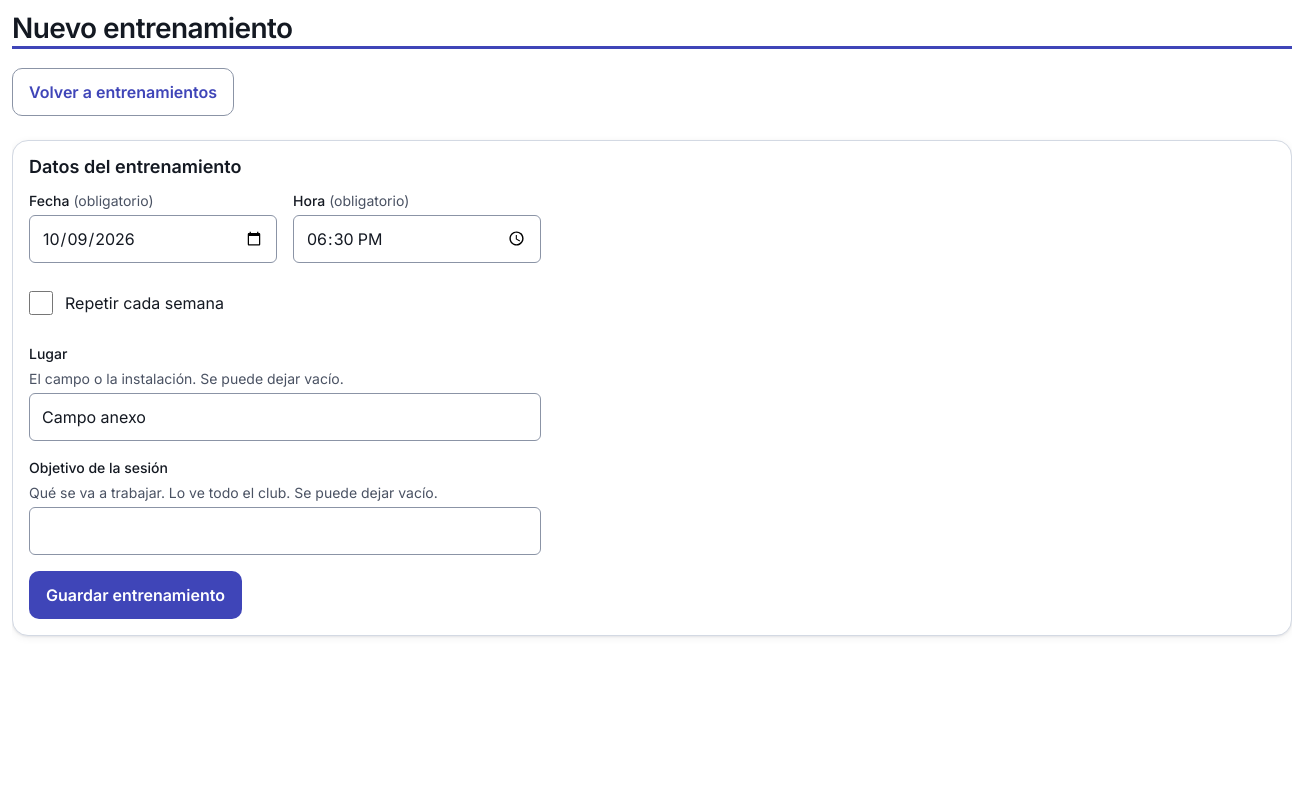
Test: A15b · Nuevo entrenamiento › propone la hora y el lugar del más reciente, guarda y vuelve a la lista
Expected: the time field labelled "Hora (obligatorio)" holds "18:30", top-left (293, 215), bottom-right (541, 263)
Expected: the field labelled "Lugar" holds "Campo anexo", top-left (29, 393), bottom-right (541, 441)
Type "2099-11-08" into the date field labelled "Fecha (obligatorio)".
click(153, 239); type("2099-11-08")  # box top-left (29, 215), bottom-right (277, 263)
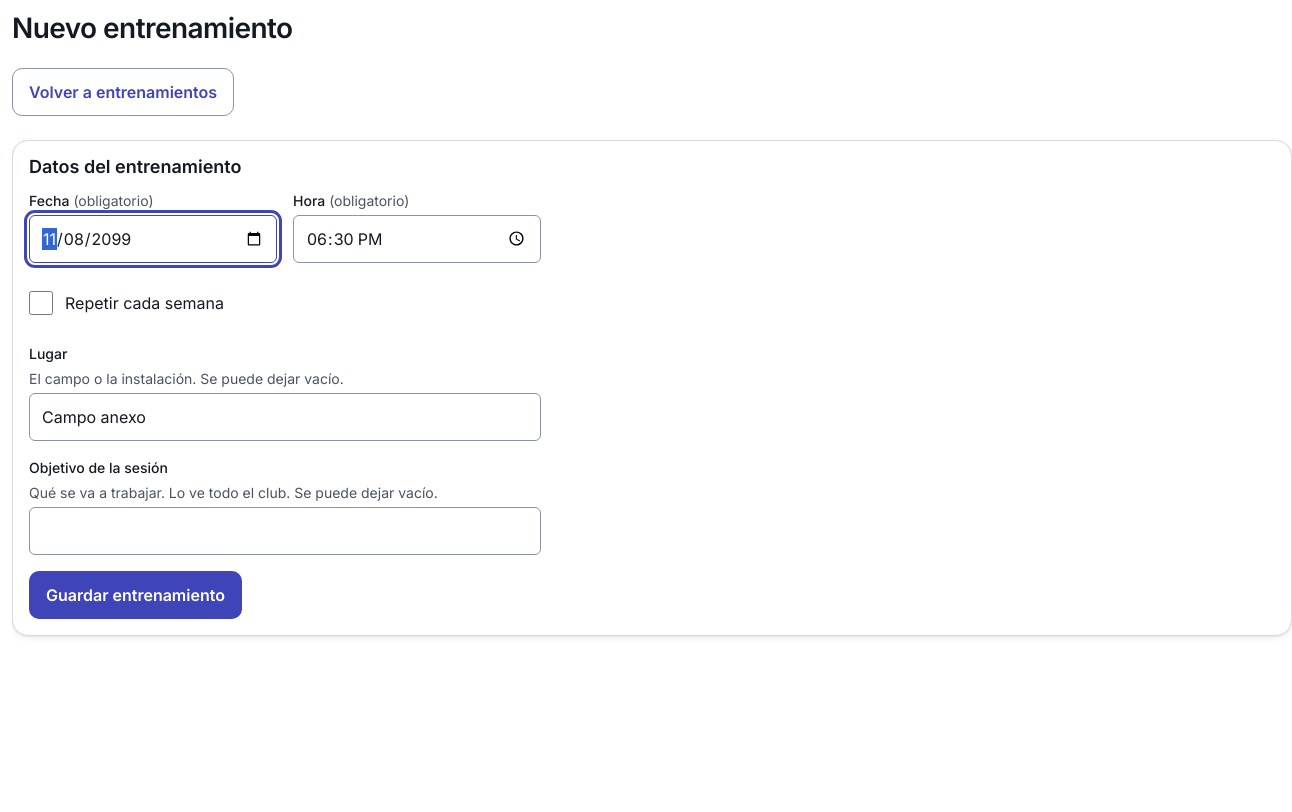
Type "Presión alta" into the field labelled "Objetivo de la sesión".
click(285, 531); type("Presión alta")  # box top-left (29, 507), bottom-right (541, 555)
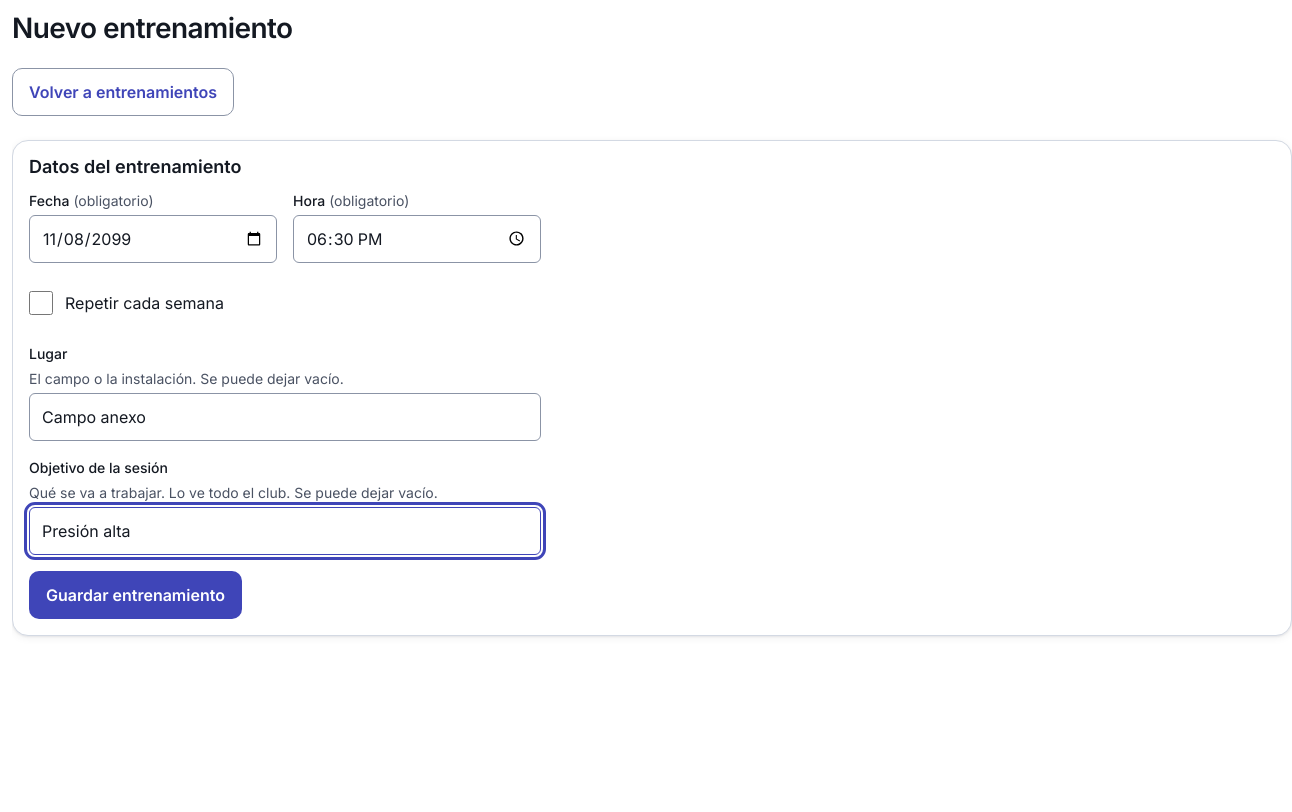
Click the button "Guardar entrenamiento".
click(136, 595)  # box top-left (29, 571), bottom-right (242, 619)
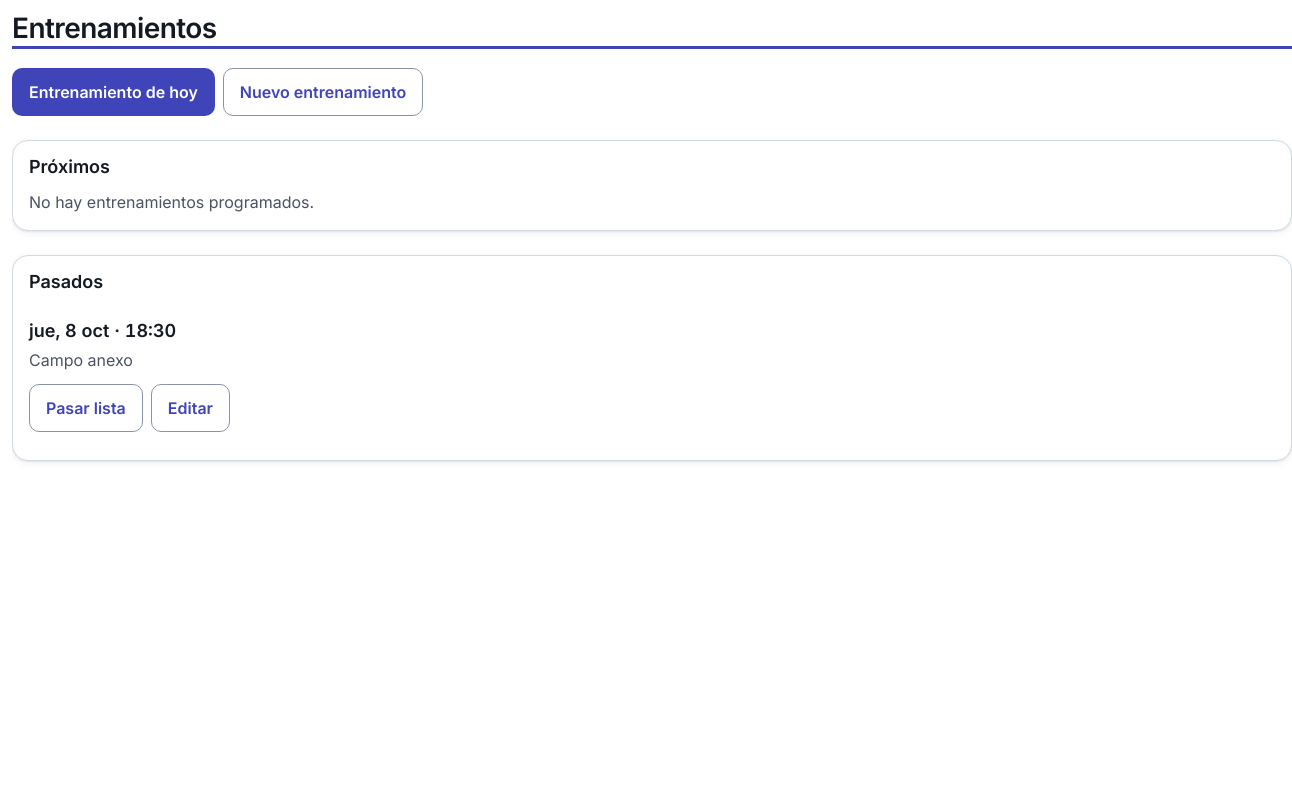
Expected: the heading "Entrenamientos" is shown, top-left (12, 11), bottom-right (217, 45)
